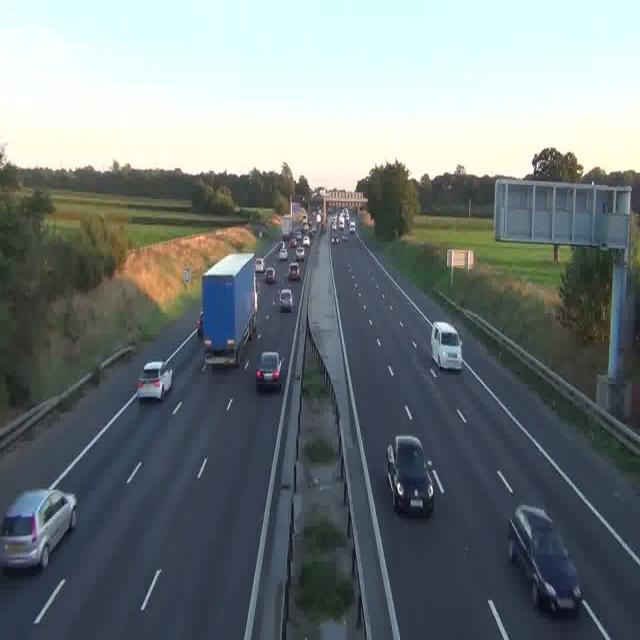car: (508, 506, 581, 613), (0, 489, 75, 571), (386, 434, 436, 516), (429, 321, 463, 371), (138, 361, 172, 400), (256, 353, 284, 390), (280, 288, 294, 311), (290, 263, 301, 280), (263, 266, 275, 281), (255, 258, 265, 274), (278, 247, 288, 261), (295, 249, 305, 262), (303, 235, 311, 246), (332, 232, 339, 243)
truck: (201, 252, 259, 364), (281, 217, 293, 240)
